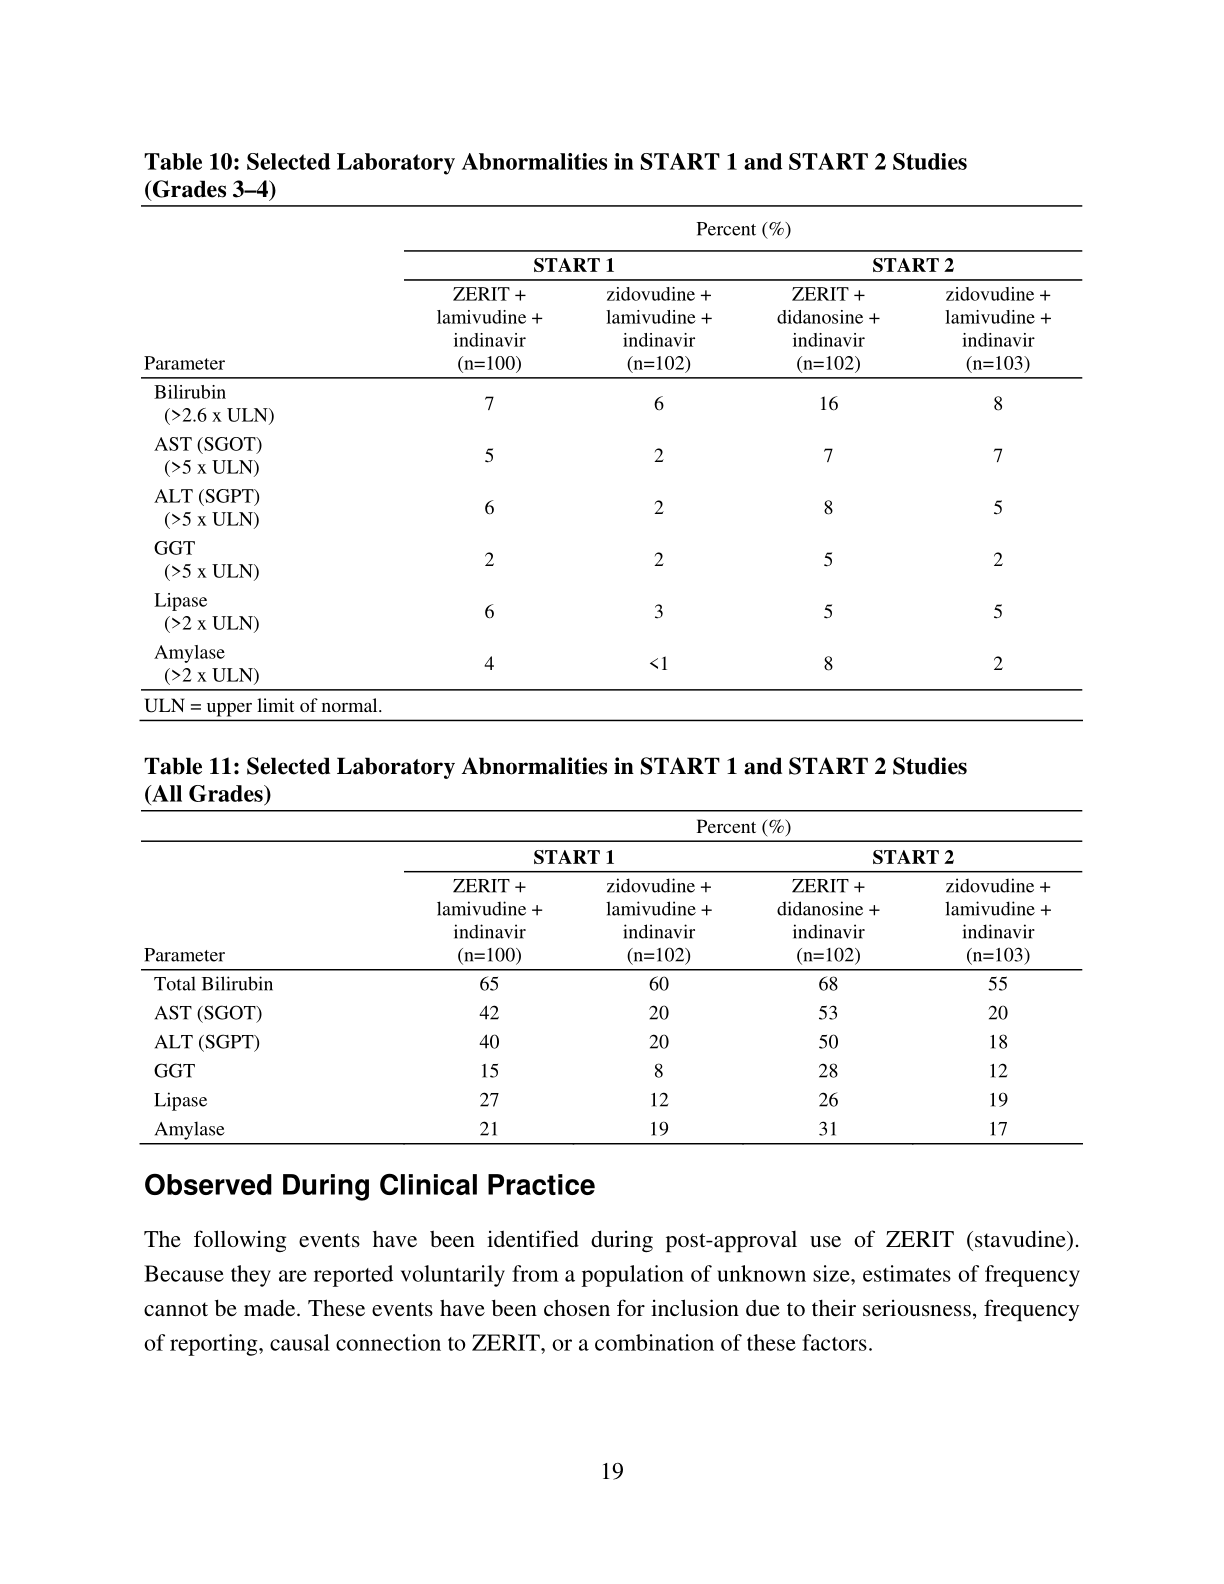partial_lined_merged_cells: (138, 203, 1084, 693), (138, 807, 1086, 1146)
